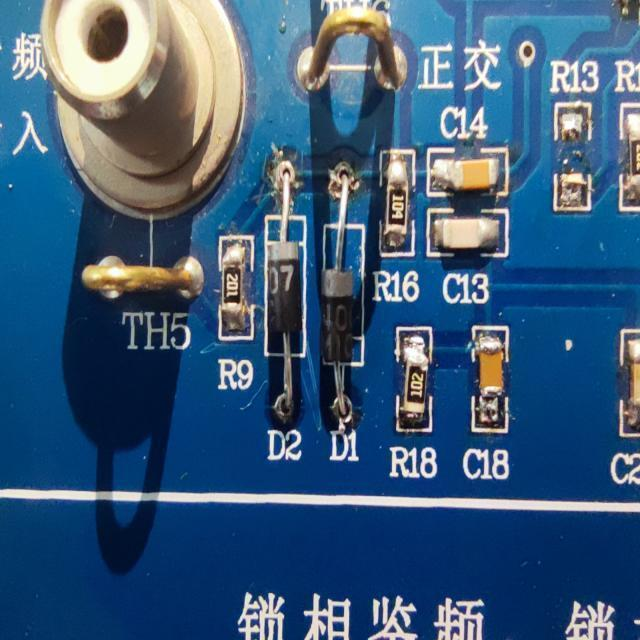Missing component: (544, 52, 604, 226)
